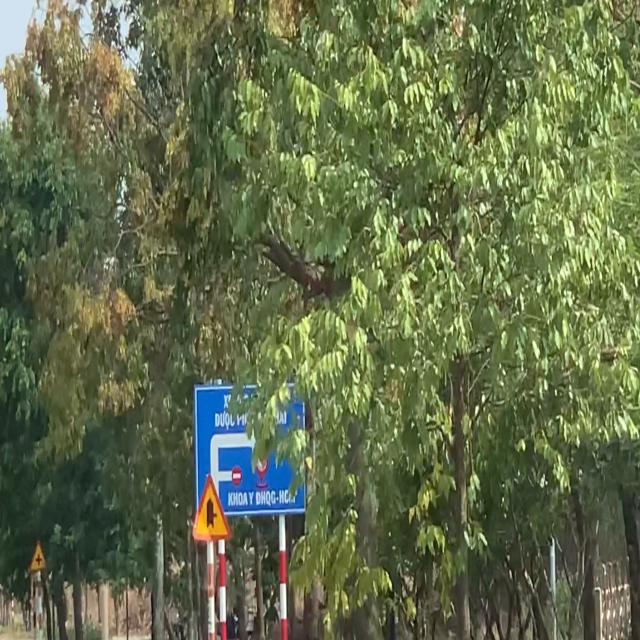Cam nguoc chieu: (232, 466, 242, 486)
Duong giao nhau: (28, 539, 48, 572)
Giao voi duong khong uu tien: (191, 473, 232, 541)
